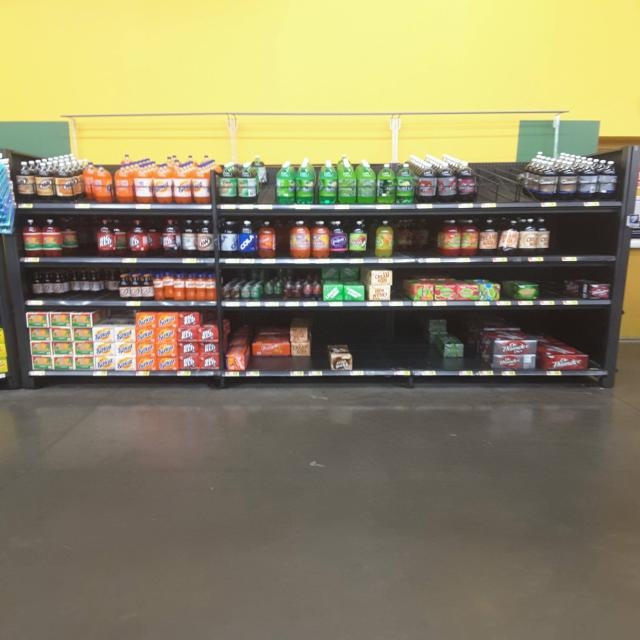void: (356, 309, 424, 375), (480, 156, 536, 205), (558, 216, 615, 257), (64, 215, 96, 259)
